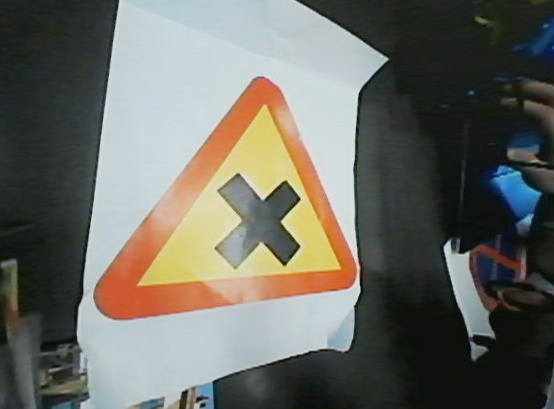junction: (85, 45, 371, 330)
